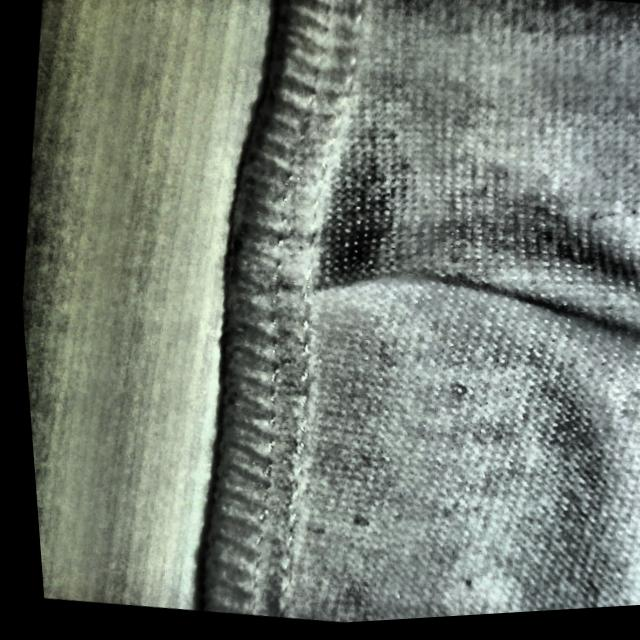seam: (205, 167, 584, 383)
